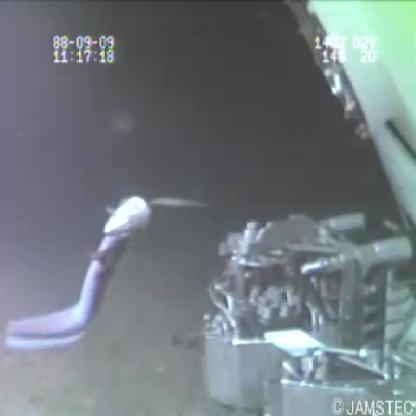Bio: (2, 194, 212, 361)
Rov: (196, 208, 416, 415)
